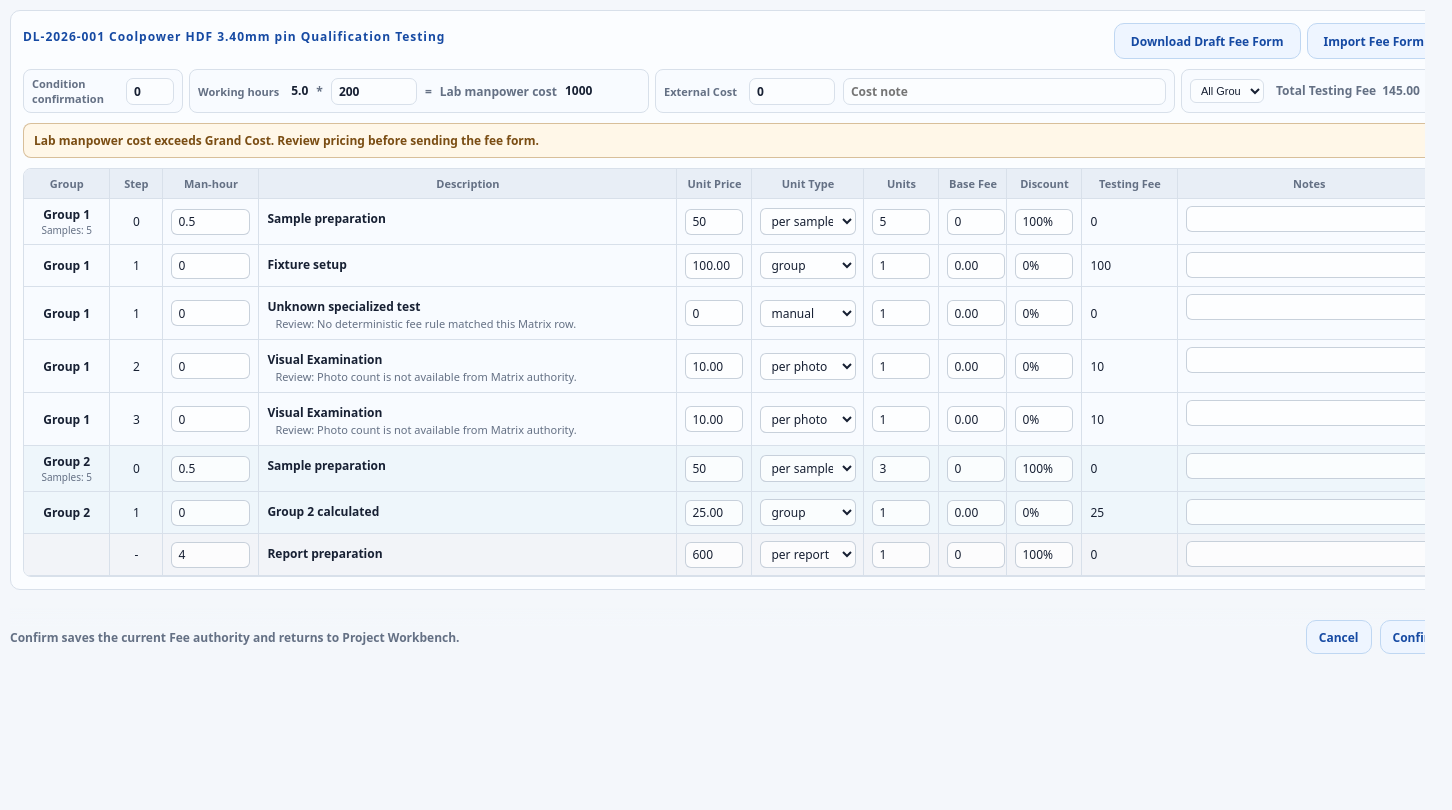
Test: FeeEvaluationReviewExportPage › filters the Testing Prices preview by group and updates the group fee card
This screenshot has width=1452, height=810.
Expected: the text "DL-2026-001 Coolpower HDF 3.40mm pin Qualification Testing" is shown, [23,28,445,44]
Expected: the text "Group 2 calculated" is shown, [267,503,379,520]
Select "Group 1" in the dropdown named "Preview group" at point(1227, 91), box [1190,79,1264,103]
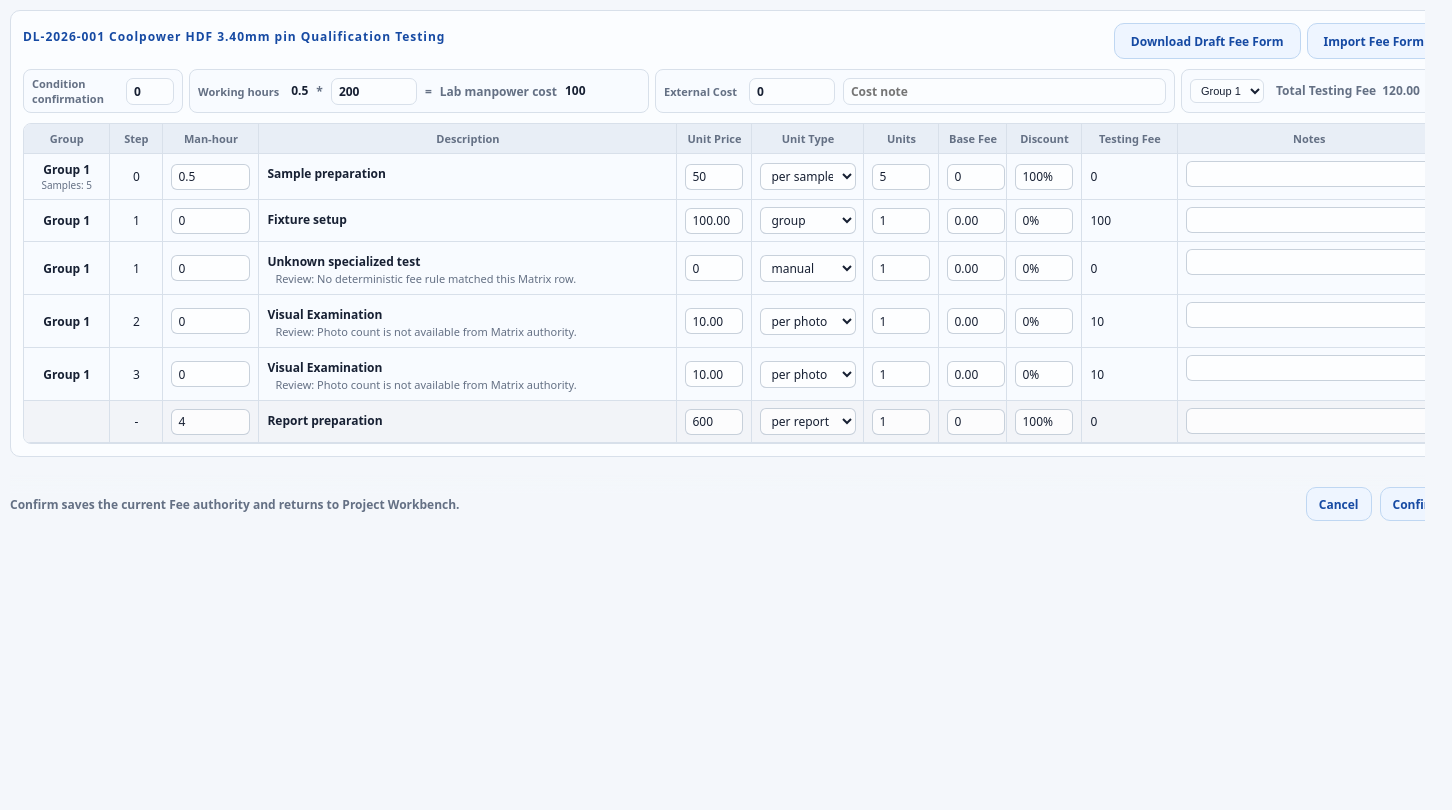
Expected: the text "Fixture setup" is shown, [267,211,347,228]
Result: the text "Group 2 calculated" is gone
Result: the element named "Selected group fee" shows "120.00" at [1382,82,1420,99]
